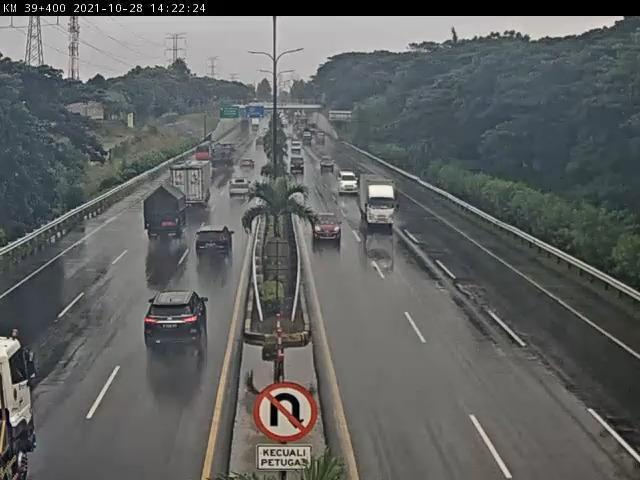car: (143, 289, 209, 350), (198, 224, 237, 259), (315, 211, 344, 244), (229, 177, 254, 202), (337, 172, 361, 196), (318, 154, 338, 173), (290, 156, 306, 174)
truck: (143, 185, 188, 242), (171, 161, 216, 210), (361, 173, 398, 230)
